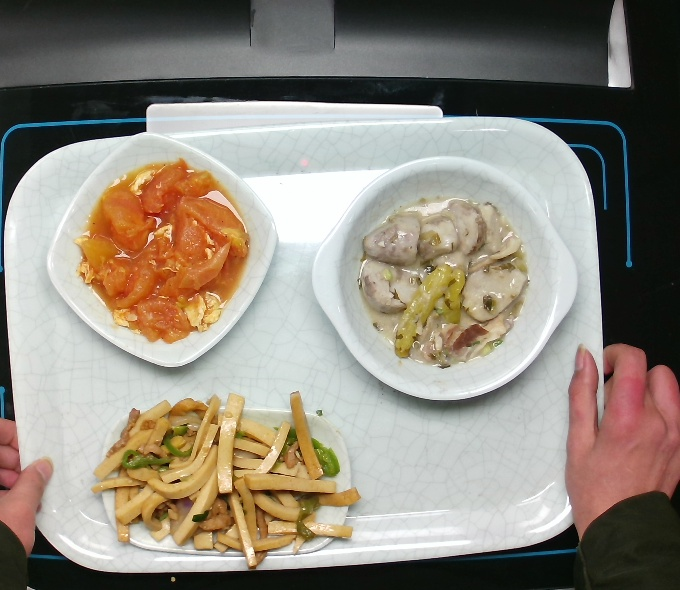wcq-FanQieChaoDan: (69, 154, 256, 348)
wcq-QianYeDouFu: (89, 389, 368, 571)
wcq-YangYu: (354, 192, 534, 371)
